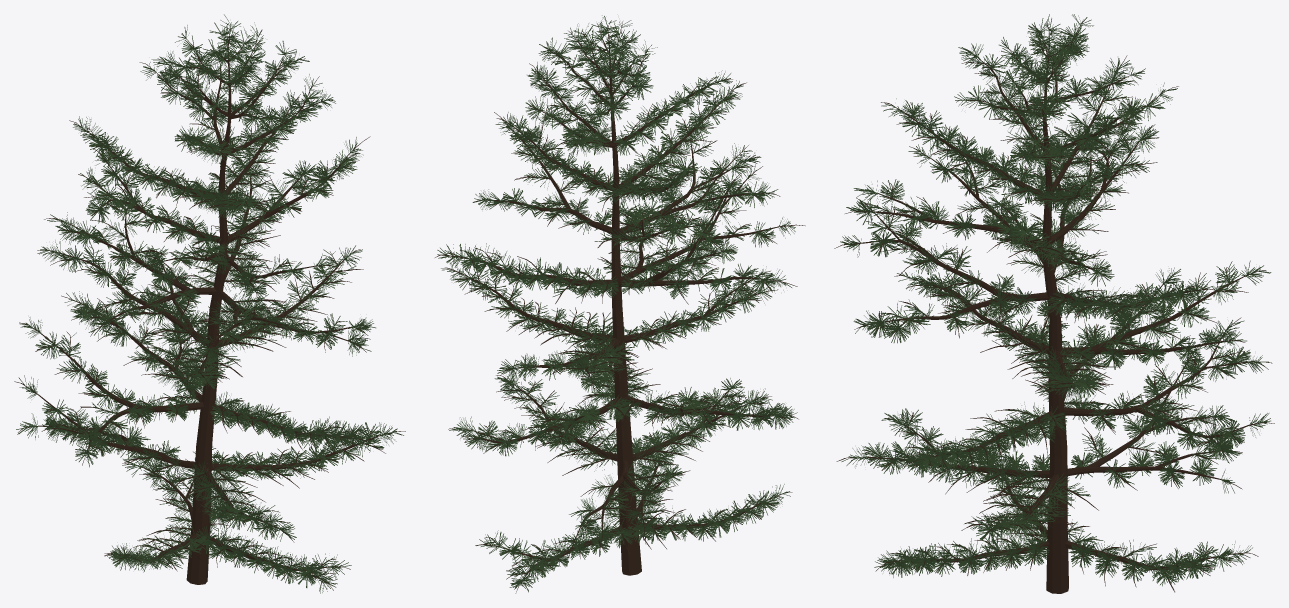
The model's file is pin-3.glb.
3 renders of one model, left to right at view 1: azimuth 30°, elevation 25°; view 2: azimuth 150°, elevation 25°; view 3: azimuth 270°, elevation 25°, orthographic. The views are drawn at different scales.
Visible parts, largest first — view 1: leaves.006, Kiefer_tree.006; view 2: leaves.006, Kiefer_tree.006; view 3: leaves.006, Kiefer_tree.006.
Boxes of the visible parts, x1,y1,x2,y2 form: leaves.006: (16, 14, 403, 593); Kiefer_tree.006: (14, 22, 405, 590); leaves.006: (437, 15, 797, 592); Kiefer_tree.006: (435, 21, 805, 593); leaves.006: (840, 14, 1271, 586); Kiefer_tree.006: (834, 19, 1274, 593).
Size of the model in its own units: 334 by 526 by 358.
